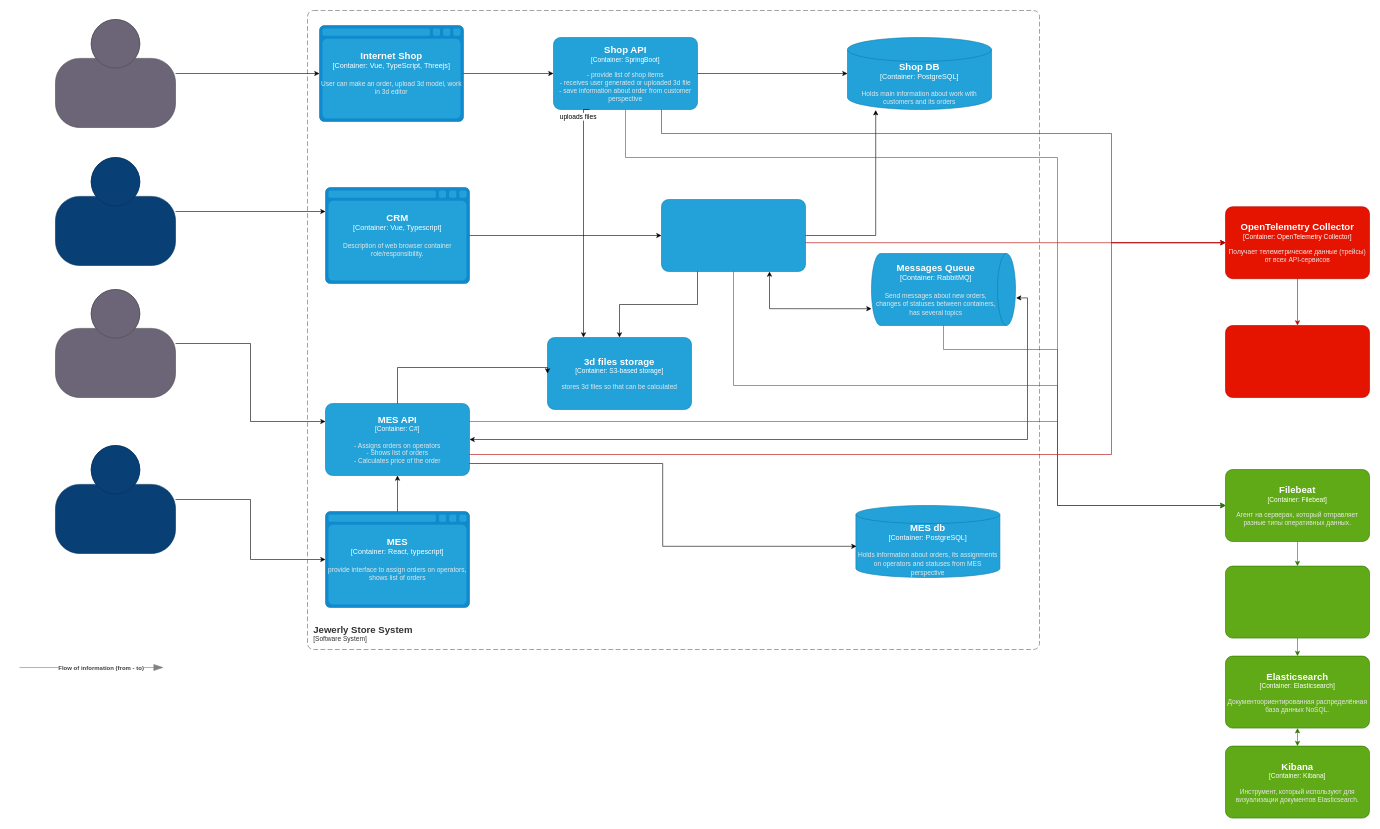
Some shapes in this 1380 by 829 pixel diagram are drawn without their labels. Each missing label, with the centre of its shape:
API user [Person] Description of external person.: [115,343]
CRM API [Container: SpringBoot] Description of container role/responsibility.: [733,235]
Customer [Person] Description of external person.: [115,73]
Jaeger [Container: Jaeger] Хранит и визуализирует собранные трейсы: [1297,361]
Logstach [Container: Logstach] Серверный конвейер обработки данных.: [1297,602]
Operator [Person] Takes order in work, manufactures jewerly: [115,499]
Seller [Person] Operates with order, confirms manufacturing for the user: [115,211]
